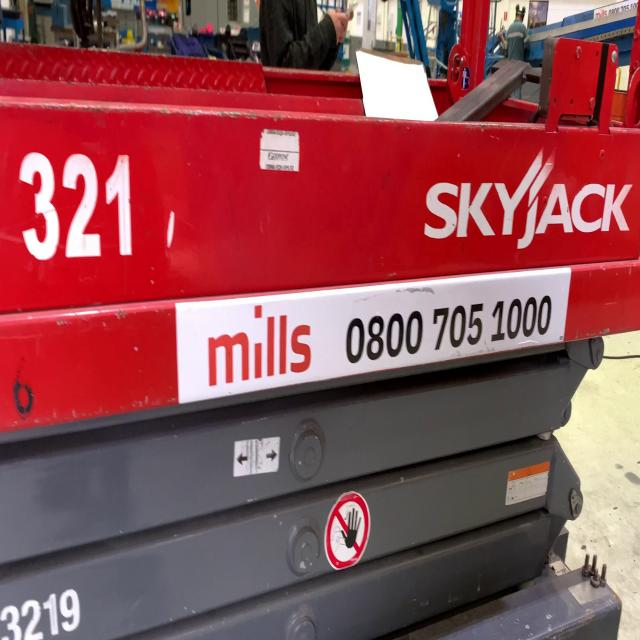Adesivo Longo: (174, 267, 573, 411)
